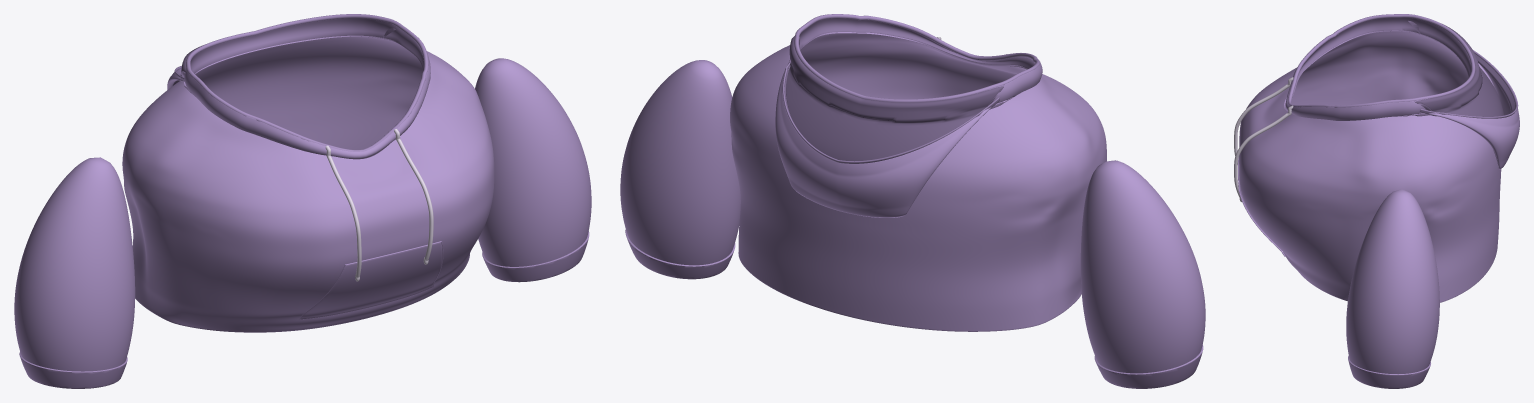
Rendered from Feminine-sweatshirt-top.glb.
The picture shows the model from 3 angles, left to right: view 1: azimuth 30°, elevation 25°; view 2: azimuth 150°, elevation 25°; view 3: azimuth 270°, elevation 25°; orthographic projection. The views are drawn at different scales.
Parts seen in each view (by area): view 1: Clothing / tailored203, Sleeve / full fabric wrap201 -1, Sleeve / full fabric wrap201 1, Hoodie / attached opening204, Hoodie / seated pouch202, Hoodie / rolled opening204 export, Sleeve / shaped cuff202 -1, Sleeve / shaped cuff202 1, Hoodie / front seated cord205 1 export, Hoodie / front seated cord205 -1 export; view 2: Clothing / tailored203, Sleeve / full fabric wrap201 -1, Hoodie / shallow resting pouch205, Sleeve / full fabric wrap201 1, Hoodie / attached opening204, Hoodie / rolled opening204 export, Sleeve / shaped cuff202 -1, Sleeve / shaped cuff202 1; view 3: Clothing / tailored203, Sleeve / full fabric wrap201 1, Hoodie / shallow resting pouch205, Hoodie / attached opening204, Hoodie / rolled opening204 export, Sleeve / shaped cuff202 1, Hoodie / front seated cord205 1 export, Hoodie / front seated cord205 -1 export.
Boxes of the visible parts, <box> form: Clothing / tailored203: <box>122,35,494,332</box>; Sleeve / full fabric wrap201 -1: <box>14,157,135,371</box>; Sleeve / full fabric wrap201 1: <box>475,58,591,266</box>; Hoodie / attached opening204: <box>184,18,430,159</box>; Hoodie / seated pouch202: <box>300,241,442,319</box>; Hoodie / rolled opening204 export: <box>186,14,428,151</box>; Sleeve / shaped cuff202 -1: <box>19,352,127,388</box>; Sleeve / shaped cuff202 1: <box>482,231,589,282</box>; Hoodie / front seated cord205 1 export: <box>394,129,433,260</box>; Hoodie / front seated cord205 -1 export: <box>325,145,361,277</box>; Clothing / tailored203: <box>730,32,1106,331</box>; Sleeve / full fabric wrap201 -1: <box>1080,160,1205,373</box>; Hoodie / shallow resting pouch205: <box>775,36,1003,217</box>; Sleeve / full fabric wrap201 1: <box>620,60,740,265</box>; Hoodie / attached opening204: <box>794,18,1042,109</box>; Hoodie / rolled opening204 export: <box>794,14,1040,102</box>; Sleeve / shaped cuff202 -1: <box>1094,344,1203,388</box>; Sleeve / shaped cuff202 1: <box>625,229,735,279</box>; Clothing / tailored203: <box>1239,30,1501,302</box>; Sleeve / full fabric wrap201 1: <box>1346,189,1439,374</box>; Hoodie / shallow resting pouch205: <box>1408,21,1519,169</box>; Hoodie / attached opening204: <box>1285,17,1471,120</box>; Hoodie / rolled opening204 export: <box>1288,14,1475,107</box>; Sleeve / shaped cuff202 1: <box>1348,356,1430,388</box>; Hoodie / front seated cord205 1 export: <box>1234,105,1293,198</box>; Hoodie / front seated cord205 -1 export: <box>1234,77,1293,164</box>.
Bounding box in the file's own units: 1.06 × 0.4801 × 0.5463.
